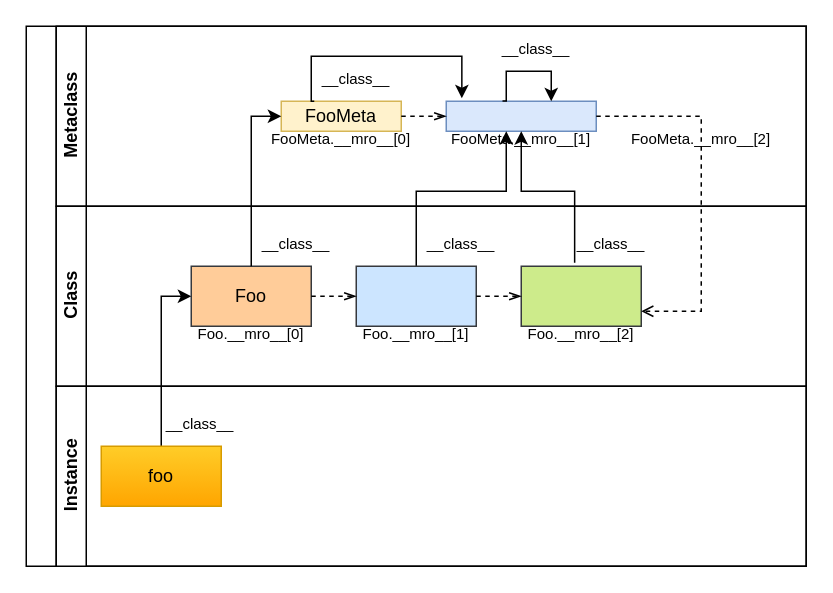
This 833x593 diagram has some shape labels left out. The centre of each missing label's shape, as x and y in pixels:
FooParent: the point at 415,295
object: the point at 580,295
type: the point at 520,115
